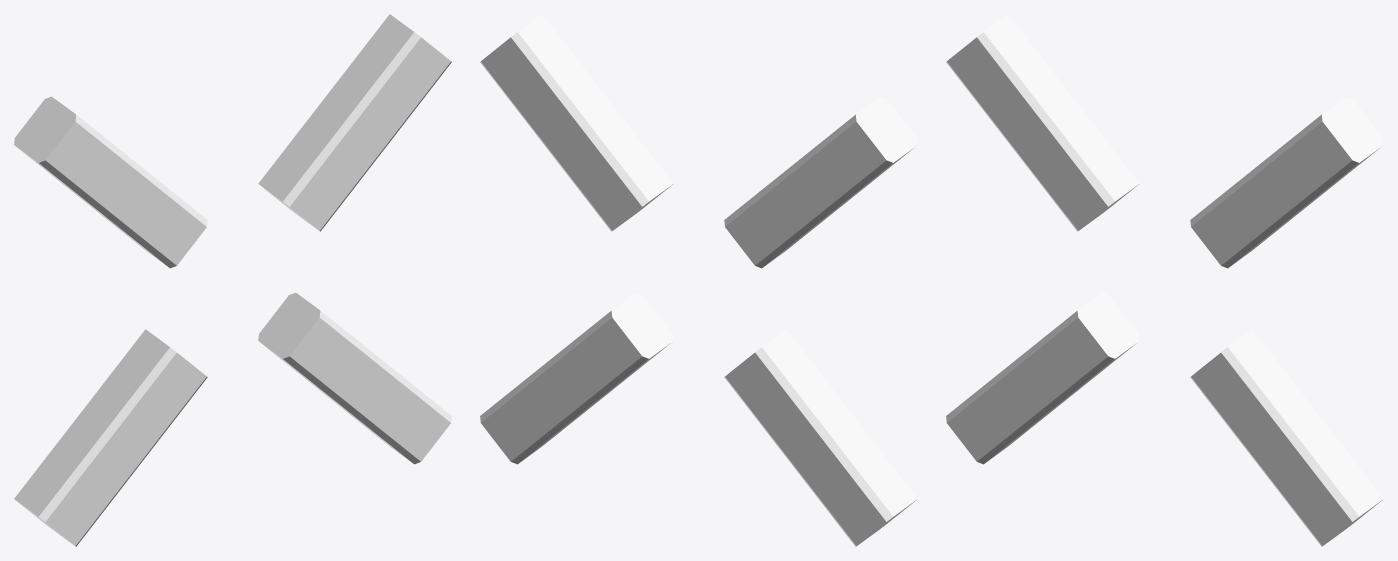
Rendered from Resources__other__HitMarker.glb.
The picture shows the model from 3 angles, left to right: view 1: azimuth 30°, elevation 25°; view 2: azimuth 150°, elevation 25°; view 3: azimuth 330°, elevation 25°; orthographic projection.
Visible parts, largest first — view 1: HitMarker; view 2: HitMarker; view 3: HitMarker.
Part boxes in pixels (<box>): HitMarker: <box>14,14,451,546</box>; HitMarker: <box>480,14,917,546</box>; HitMarker: <box>946,14,1383,546</box>.
Bounding box in the file's own units: 0.1556 × 0.1556 × 0.02.
1 material, 1 textured.
